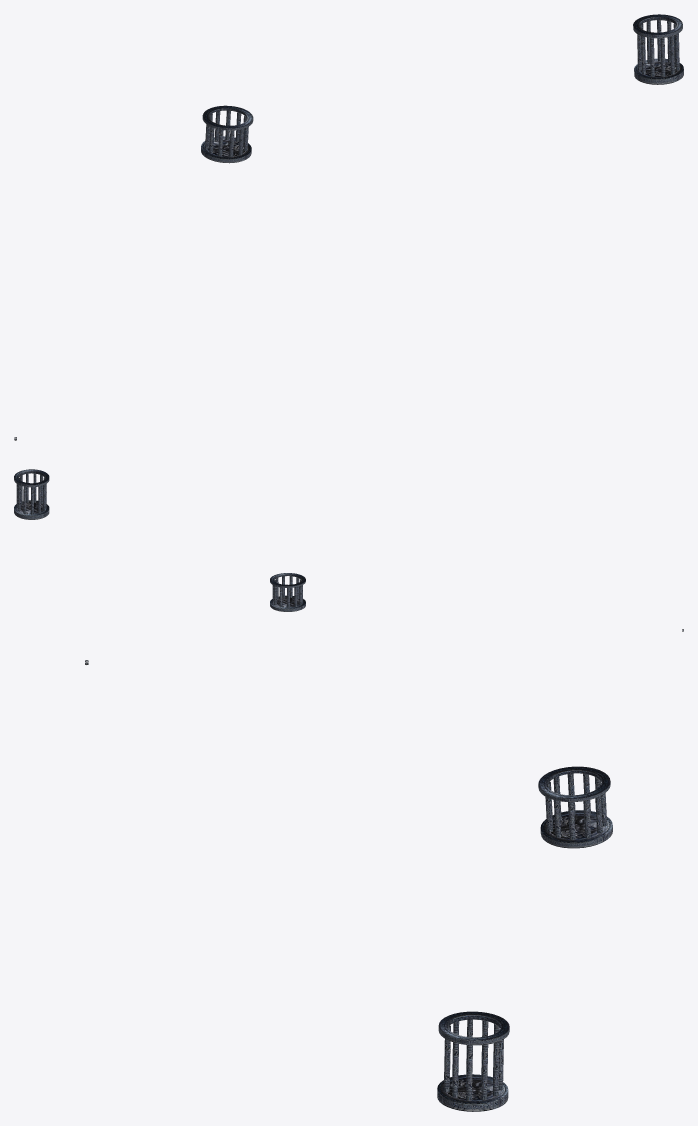
File: temple.glb
3 views of the same model, one above another, from view 1: azimuth 30°, elevation 25°; view 2: azimuth 150°, elevation 25°; view 3: azimuth 270°, elevation 25° (orthographic). The views are drawn at different scales.
Visible parts, largest first — view 1: temple.026_26, temple.025_25; view 2: temple.026_26, temple.025_25; view 3: temple.026_26, temple.025_25.
Boxes of the visible parts, left/top/right/bottom form: temple.026_26: left=633, top=14, right=683, bottom=84; temple.025_25: left=201, top=105, right=253, bottom=163; temple.026_26: left=14, top=469, right=49, bottom=519; temple.025_25: left=270, top=573, right=305, bottom=611; temple.026_26: left=437, top=1011, right=509, bottom=1111; temple.025_25: left=538, top=766, right=612, bottom=848.
Size of the model in its own units: 801 by 121 by 321.
Materials: 9 (8 with a texture image).
